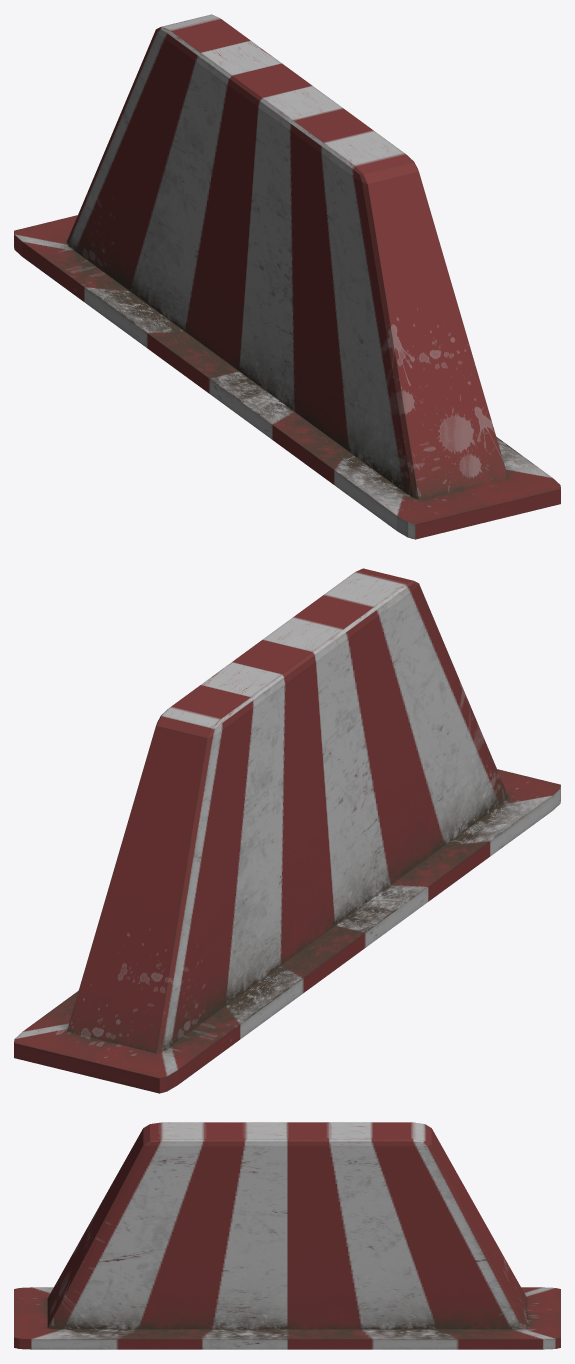
Rendered from UserProp.fbx.
3 views of the same model, one above another, from view 1: azimuth 30°, elevation 25°; view 2: azimuth 150°, elevation 25°; view 3: azimuth 270°, elevation 25° (orthographic). The views are drawn at different scales.
Parts seen in each view (by area): view 1: Cube; view 2: Cube; view 3: Cube.
Part boxes in pixels (x1=…): Cube: x1=14, y1=14, x2=560, y2=539; Cube: x1=14, y1=568, x2=560, y2=1093; Cube: x1=14, y1=1122, x2=560, y2=1349.
Size of the model in its own units: 118 by 205 by 526.
1 material, 1 textured.
